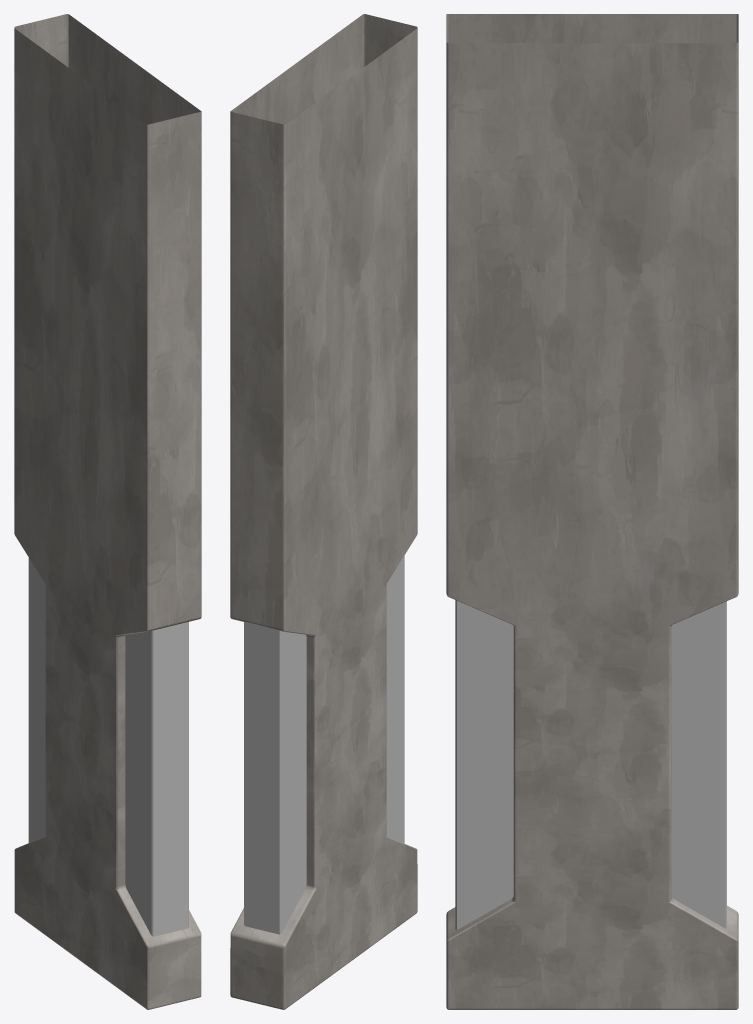
The model's file is Mesh_pillars_medium.fbx.
3 renders of one model, left to right at view 1: azimuth 30°, elevation 25°; view 2: azimuth 150°, elevation 25°; view 3: azimuth 270°, elevation 25°, orthographic. The views are drawn at different scales.
Visible parts, largest first — view 1: MESH_pillar_medium; view 2: MESH_pillar_medium; view 3: MESH_pillar_medium.
Boxes of the visible parts, box(x1,y1,x2,y2) form: MESH_pillar_medium: box(14, 14, 201, 1009); MESH_pillar_medium: box(230, 14, 417, 1009); MESH_pillar_medium: box(446, 14, 738, 1009).
Size of the model in its own units: 106 by 1625 by 444.
